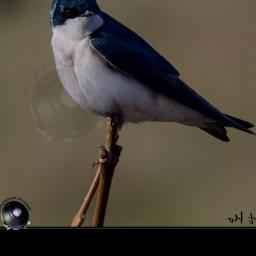Swallow: (48, 0, 256, 142)
